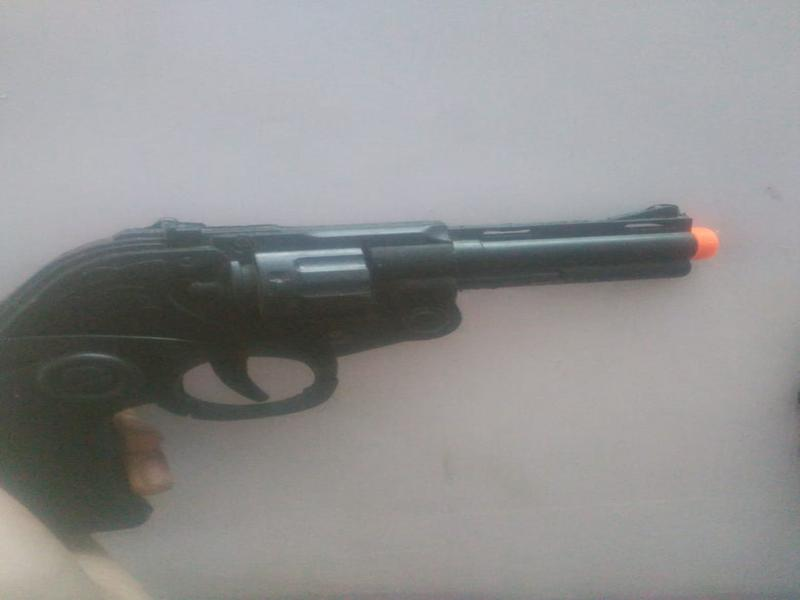gun: (11, 191, 731, 548)
